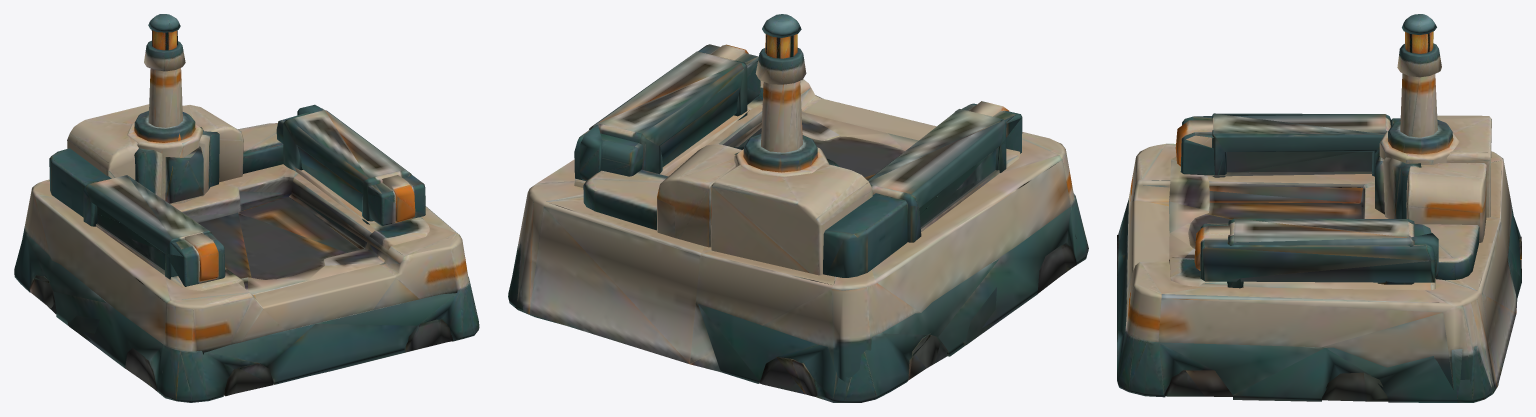
The model's file is logistics_hub-lod0.867a3a5f3a87.glb.
The picture shows the model from 3 angles, left to right: view 1: azimuth 30°, elevation 25°; view 2: azimuth 150°, elevation 25°; view 3: azimuth 270°, elevation 25°; orthographic projection. The views are drawn at different scales.
Parts seen in each view (by area): view 1: geometry_0; view 2: geometry_0; view 3: geometry_0.
Part boxes in pixels (x1,y1,x2,y2): geometry_0: (14, 14, 479, 402); geometry_0: (508, 14, 1088, 402); geometry_0: (1117, 14, 1521, 402).
Bounding box in the file's own units: 1 × 0.7685 × 1.
1 material, 1 textured.
